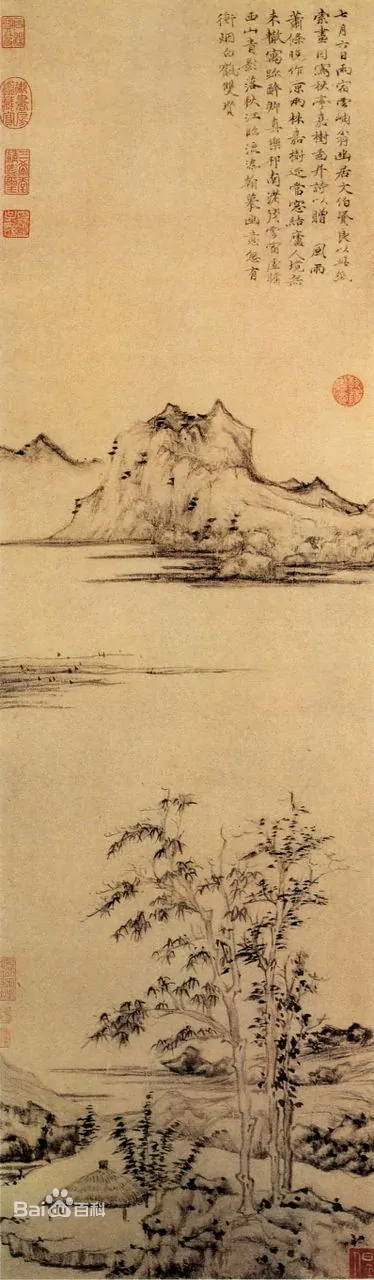hill: (7, 404, 374, 608)
pine: (73, 785, 341, 1207)
rock: (166, 1182, 370, 1279)
